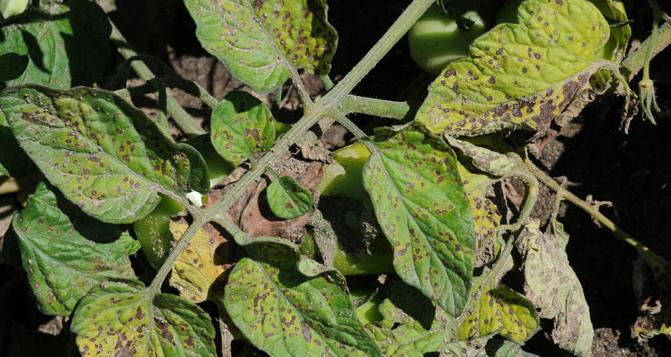Tomato Septoria leaf spot: (415, 0, 616, 150), (348, 120, 480, 319), (0, 80, 175, 223), (224, 244, 396, 357), (160, 0, 342, 93), (68, 254, 217, 357)
